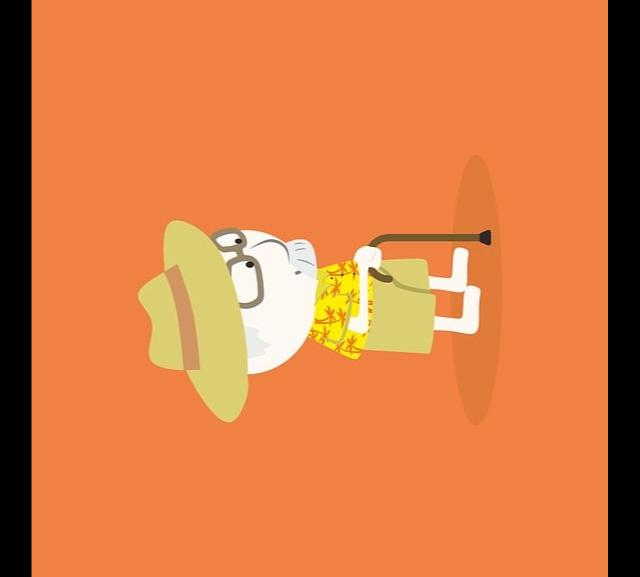Non_Gorille: (83, 144, 522, 458)
